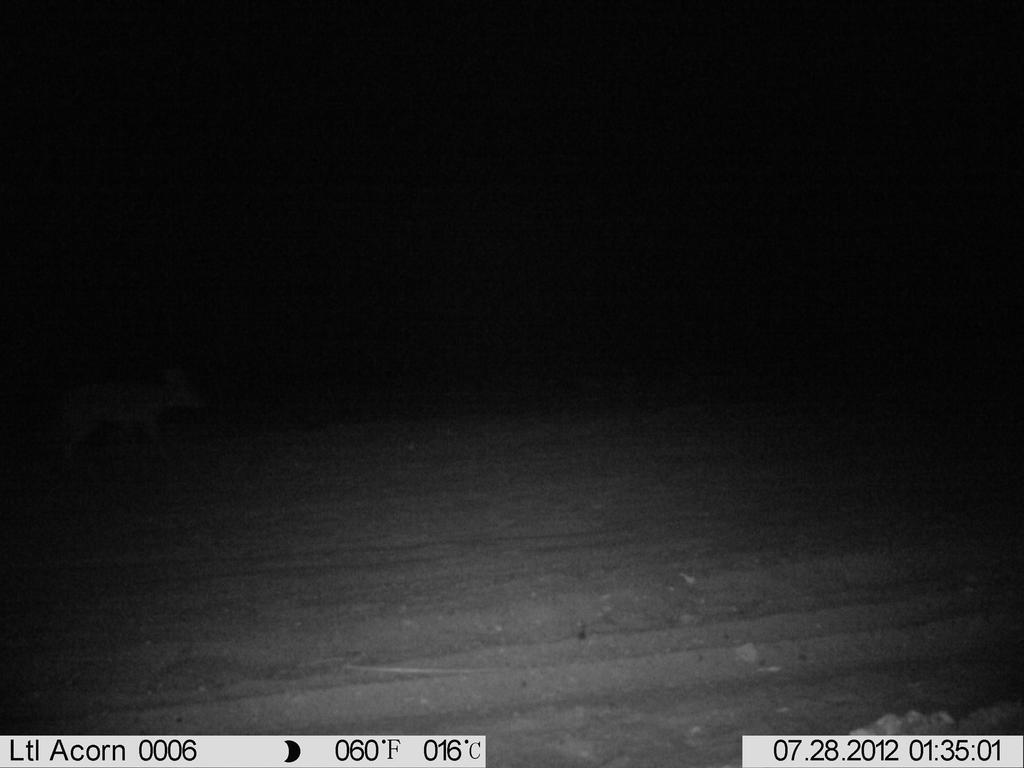coyote: (35, 370, 203, 491)
